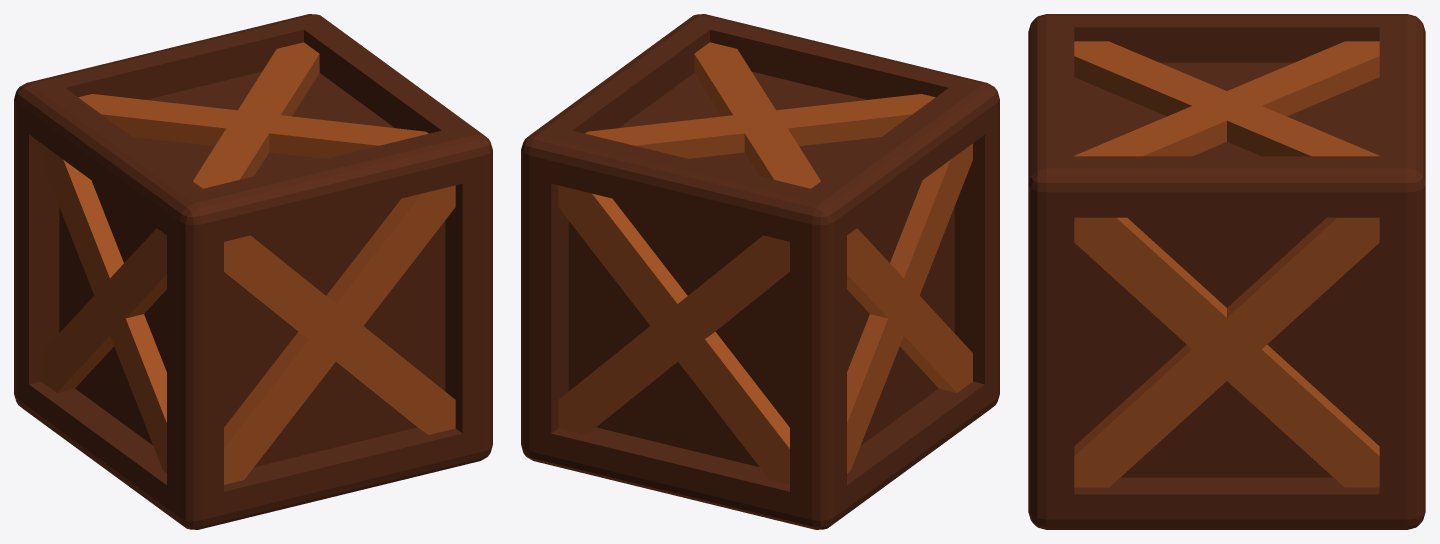
The picture shows the model from 3 angles, left to right: view 1: azimuth 30°, elevation 25°; view 2: azimuth 150°, elevation 25°; view 3: azimuth 270°, elevation 25°; orthographic projection. The views are drawn at different scales.
Visible parts, largest first — view 1: Box, Scaffold; view 2: Box, Scaffold; view 3: Box, Scaffold.
Boxes of the visible parts, bbox=[...] form: Box: bbox=[14, 14, 492, 529]; Scaffold: bbox=[41, 42, 455, 484]; Box: bbox=[521, 14, 999, 529]; Scaffold: bbox=[558, 42, 972, 484]; Box: bbox=[1028, 14, 1425, 529]; Scaffold: bbox=[1074, 41, 1379, 487].
Bounding box in the file's own units: 200 × 200 × 200.
